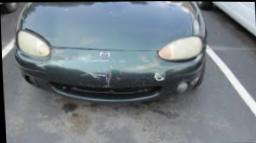Bumper: (14, 41, 204, 103)
